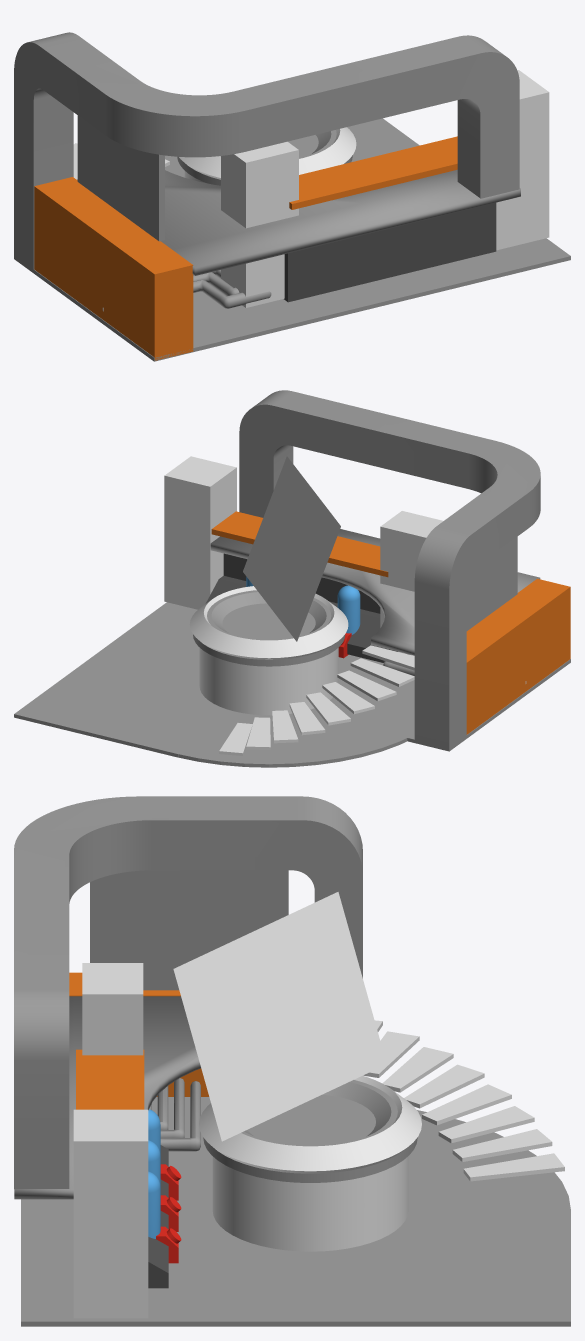
File: Sci-fi_lab_export.gltf
3 views of the same model, one above another, from view 1: azimuth 30°, elevation 25°; view 2: azimuth 150°, elevation 25°; view 3: azimuth 270°, elevation 25° (orthographic). The views are drawn at different scales.
Parts seen in each view (by area): view 1: Back Structure, machine04, upper floor, Floor, machine02, machine03, AvatarScreen, machine01, Plane.001, Rotate, Pipe, Base; view 2: Back Structure, Floor, machine04, Web Screen, machine01, Stairs, NameScreen, upper floor, Base, Rotate, machine03, AvatarScreen (+3 smaller); view 3: Floor, Back Structure, Web Screen, AvatarScreen, machine01, NameScreen, Stairs, Base, Rotate, upper floor, machine03, Plane.001 (+5 smaller).
Part boxes in pixels (<box>): Back Structure: <box>14,32,519,272</box>; machine04: <box>34,177,193,360</box>; upper floor: <box>77,169,520,275</box>; Floor: <box>33,118,570,361</box>; machine02: <box>284,202,496,302</box>; machine03: <box>221,141,298,307</box>; AvatarScreen: <box>77,115,164,241</box>; machine01: <box>496,70,549,250</box>; Plane.001: <box>289,136,457,209</box>; Rotate: <box>179,127,356,179</box>; Pipe: <box>102,270,271,311</box>; Base: <box>177,130,352,185</box>; Back Structure: <box>239,390,540,751</box>; Floor: <box>14,602,570,767</box>; machine04: <box>466,578,570,734</box>; Web Screen: <box>243,456,340,641</box>; machine01: <box>164,456,236,609</box>; Stairs: <box>219,645,414,755</box>; NameScreen: <box>199,647,338,715</box>; upper floor: <box>210,529,540,655</box>; Base: <box>193,590,345,666</box>; Rotate: <box>189,586,348,659</box>; machine03: <box>380,511,443,654</box>; AvatarScreen: <box>466,536,517,630</box>; Floor: <box>21,1097,570,1326</box>; Back Structure: <box>14,796,362,1188</box>; Web Screen: <box>173,892,386,1141</box>; AvatarScreen: <box>90,870,288,990</box>; machine01: <box>73,1109,148,1318</box>; NameScreen: <box>212,1156,408,1251</box>; Stairs: <box>363,1020,564,1181</box>; Base: <box>203,1080,417,1182</box>; Rotate: <box>199,1075,421,1173</box>; upper floor: <box>14,996,200,1199</box>; machine03: <box>82,963,143,1055</box>; Plane.001: <box>76,1049,144,1109</box>.
Size of the model in its own units: 5.47 by 2.93 by 5.2.
